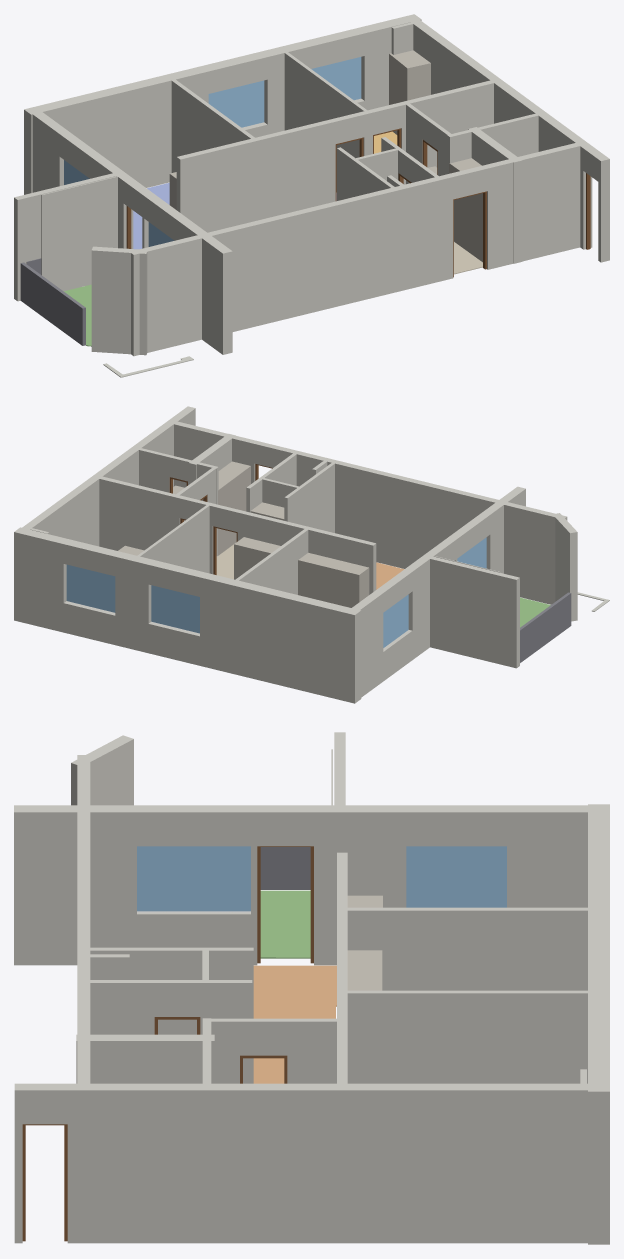
3 renders of one model, top to bottom at view 1: azimuth 30°, elevation 25°; view 2: azimuth 150°, elevation 25°; view 3: azimuth 270°, elevation 25°, orthographic. The views are drawn at different scales.
Visible parts, largest first — view 1: walls, railings, furniture_0_closet, furniture_4_closet, window_0, window_1, floor_0_Bed_Room, floor_8_Outdoor, floor_2_Entry; view 2: walls, furniture_1_closet, railings, window_1, window_0, furniture_4_closet, furniture_2_closet, window_3, window_10, floor_8_Outdoor, floor_2_Entry, floor_1_Living_Room (+1 smaller); view 3: walls, window_10, window_3, floor_1_Living_Room, floor_8_Outdoor, railings, furniture_2_closet, door_11, door_2.
Part boxes in pixels (bbox=[...]): walls: bbox=[14, 14, 609, 356]; railings: bbox=[20, 258, 85, 345]; furniture_0_closet: bbox=[389, 50, 430, 134]; furniture_4_closet: bbox=[449, 158, 482, 262]; window_0: bbox=[208, 80, 264, 127]; window_1: bbox=[311, 57, 361, 100]; floor_0_Bed_Room: bbox=[133, 183, 169, 249]; floor_8_Outdoor: bbox=[64, 284, 91, 346]; floor_2_Entry: bbox=[454, 242, 482, 274]; walls: bbox=[14, 406, 577, 703]; furniture_1_closet: bbox=[298, 552, 369, 607]; railings: bbox=[520, 592, 571, 662]; window_1: bbox=[66, 564, 115, 612]; window_0: bbox=[151, 585, 199, 633]; furniture_4_closet: bbox=[218, 461, 250, 555]; furniture_2_closet: bbox=[234, 537, 280, 579]; window_3: bbox=[383, 594, 408, 647]; window_10: bbox=[457, 537, 486, 568]; floor_8_Outdoor: bbox=[520, 597, 550, 627]; floor_2_Entry: bbox=[216, 544, 233, 579]; floor_1_Living_Room: bbox=[376, 562, 404, 589]; walls: bbox=[14, 732, 609, 1244]; window_10: bbox=[137, 846, 250, 911]; window_3: bbox=[406, 846, 506, 907]; floor_1_Living_Room: bbox=[253, 965, 336, 1083]; floor_8_Outdoor: bbox=[260, 890, 310, 958]; railings: bbox=[260, 847, 310, 889]; furniture_2_closet: bbox=[347, 950, 382, 990]; door_11: bbox=[22, 1124, 67, 1241]; door_2: bbox=[257, 846, 313, 963].
Bounding box in the file's own units: 13.6 × 2.72 × 9.54.
